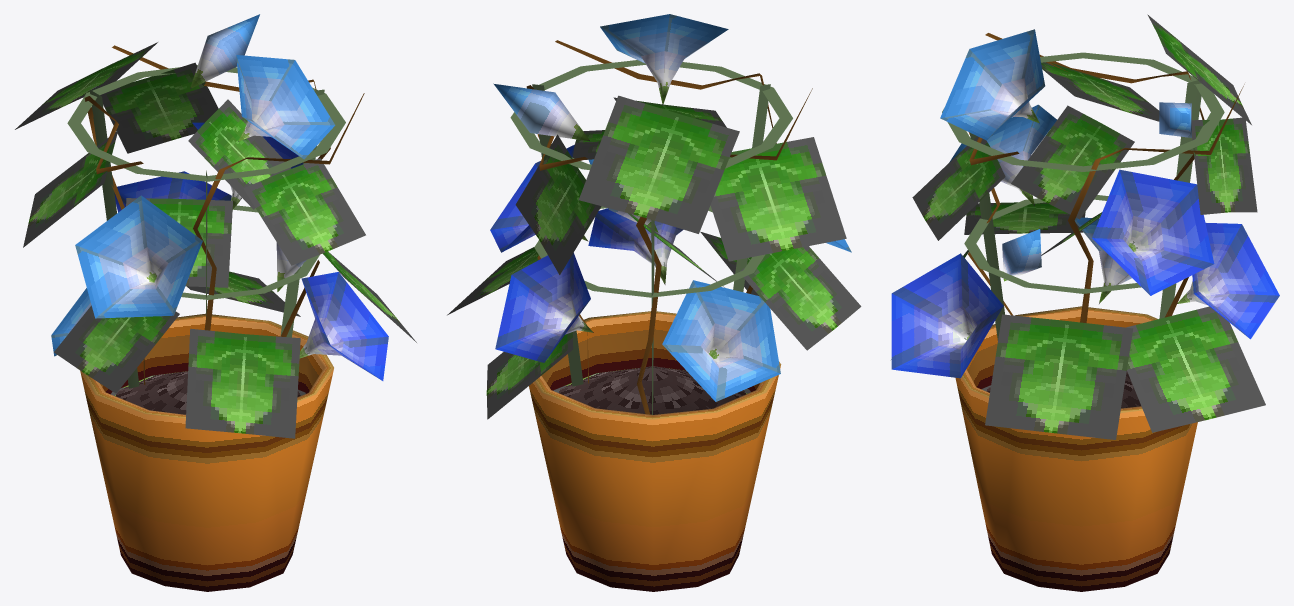
Rendered from rmk_plt_morning_glory.dae.
3 renders of one model, left to right at view 1: azimuth 30°, elevation 25°; view 2: azimuth 150°, elevation 25°; view 3: azimuth 270°, elevation 25°, orthographic. The views are drawn at different scales.
Parts seen in each view (by area): view 1: rmk_plt_morning_glory; view 2: rmk_plt_morning_glory; view 3: rmk_plt_morning_glory.
Boxes of the visible parts, bbox=[...] form: rmk_plt_morning_glory: bbox=[15, 14, 416, 591]; rmk_plt_morning_glory: bbox=[447, 14, 861, 591]; rmk_plt_morning_glory: bbox=[891, 14, 1279, 591].
Bounding box in the file's own units: 25.7 × 33.8 × 22.6.
Materials: 1 (1 with a texture image).
